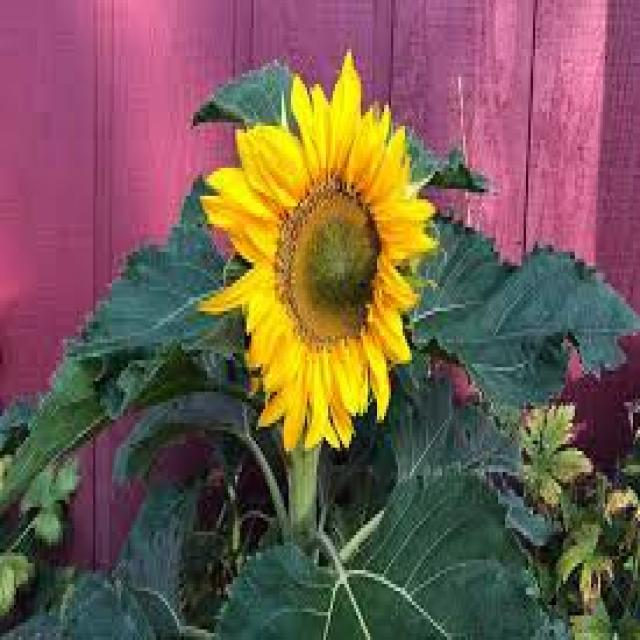sunflower: (194, 49, 439, 479)
